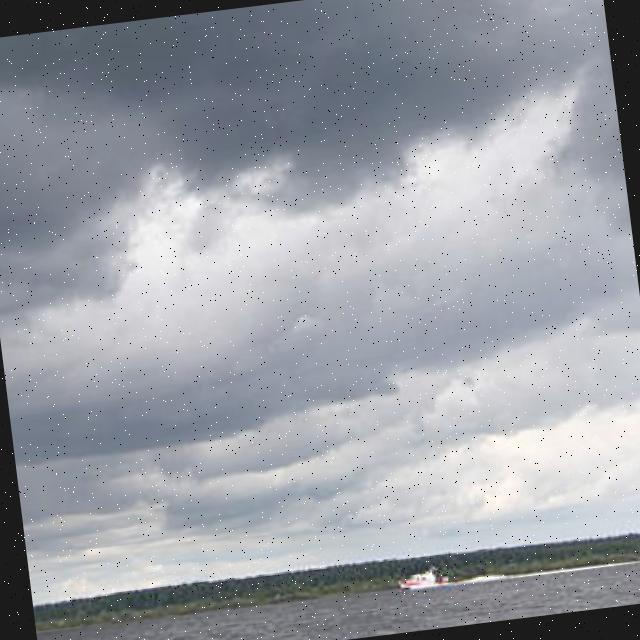Ns: (1, 30, 640, 577)
